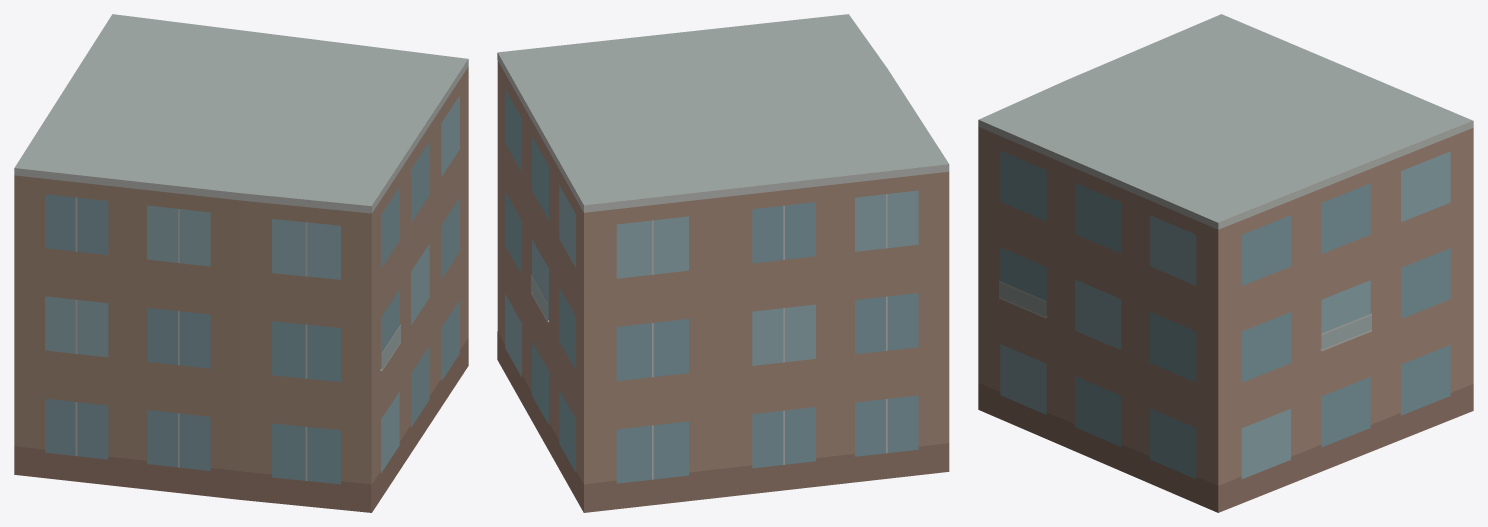
File: survey-upis-32838170.glb
3 renders of one model, left to right at view 1: azimuth 30°, elevation 25°; view 2: azimuth 150°, elevation 25°; view 3: azimuth 270°, elevation 25°, orthographic. The views are drawn at different scales.
Parts seen in each view (by area): view 1: survey-upis-32838170.tmp; view 2: survey-upis-32838170.tmp; view 3: survey-upis-32838170.tmp.
Part boxes in pixels (left/top/right/bottom): survey-upis-32838170.tmp: left=14, top=14, right=468, bottom=512; survey-upis-32838170.tmp: left=497, top=14, right=949, bottom=512; survey-upis-32838170.tmp: left=978, top=14, right=1473, bottom=512.
Bounding box in the file's own units: 15.76 × 10.2 × 15.79.
